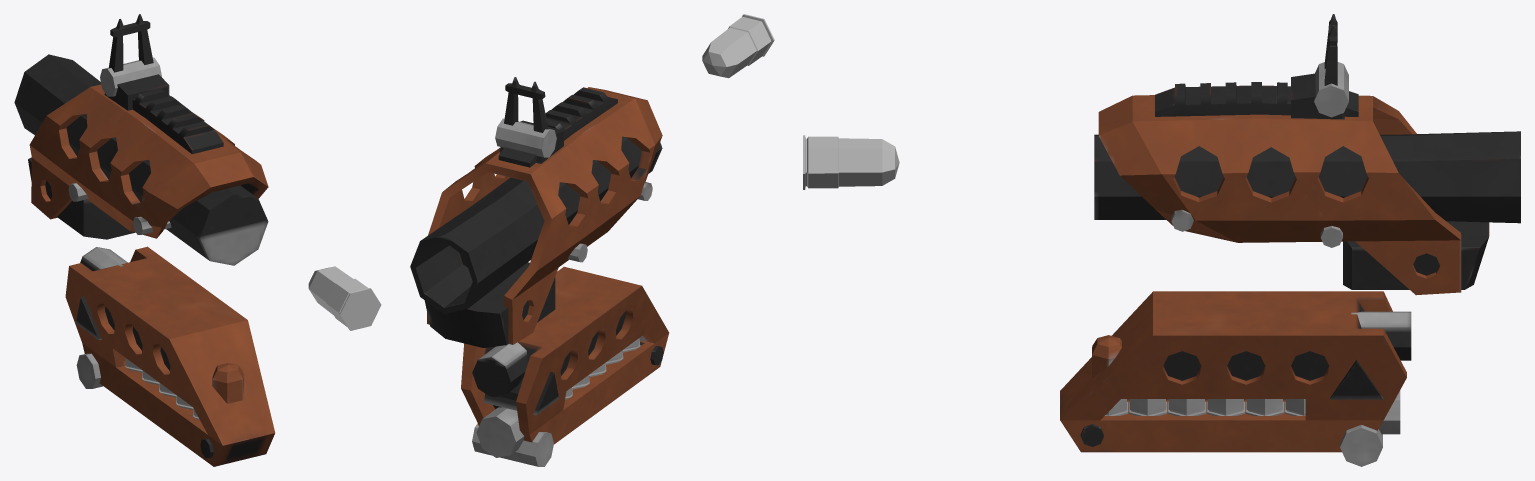
Rendered from BoomObjs.fbx.
The picture shows the model from 3 angles, left to right: view 1: azimuth 30°, elevation 25°; view 2: azimuth 150°, elevation 25°; view 3: azimuth 270°, elevation 25°; orthographic projection. The views are drawn at different scales.
Visible parts, largest first — view 1: BoomBarrel, BoomMag, Boom; view 2: BoomBarrel, BoomMag, Boom; view 3: BoomBarrel, BoomMag, Boom.
Boxes of the visible parts, box(x1,y1,x2,y2) form: BoomBarrel: box(14, 14, 268, 265); BoomMag: box(65, 246, 275, 466); Boom: box(308, 266, 381, 330); BoomBarrel: box(410, 77, 662, 347); BoomMag: box(461, 266, 669, 466); Boom: box(702, 14, 774, 78); BoomBarrel: box(1094, 14, 1520, 295); BoomMag: box(1060, 291, 1411, 466); Boom: box(803, 135, 899, 189).
Bounding box in the file's own units: 0.1256 × 0.3861 × 0.5852.
